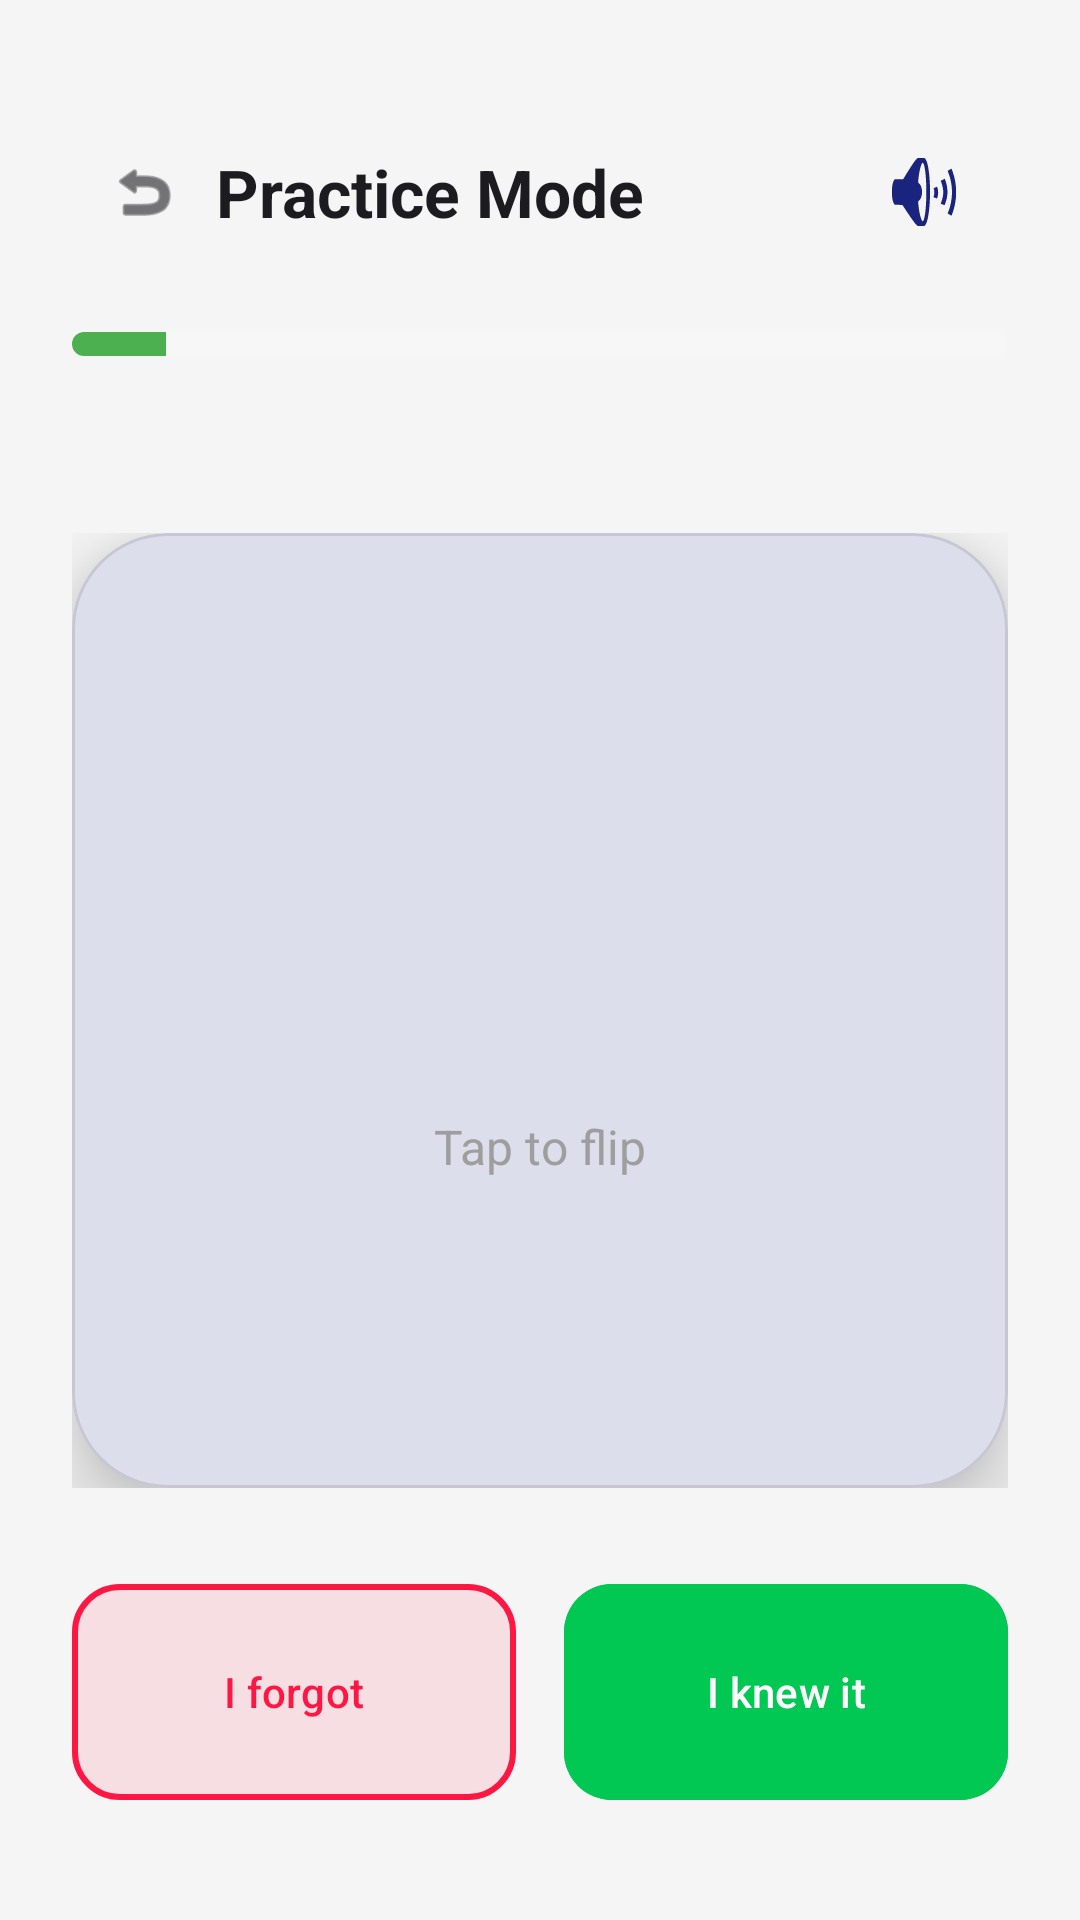

Screen size 1080*1920. Icon name, then its box in pixels as (x1, y1, x2, y2):
Back Button: (119, 169, 171, 216)
Speak Word: (892, 158, 956, 226)
